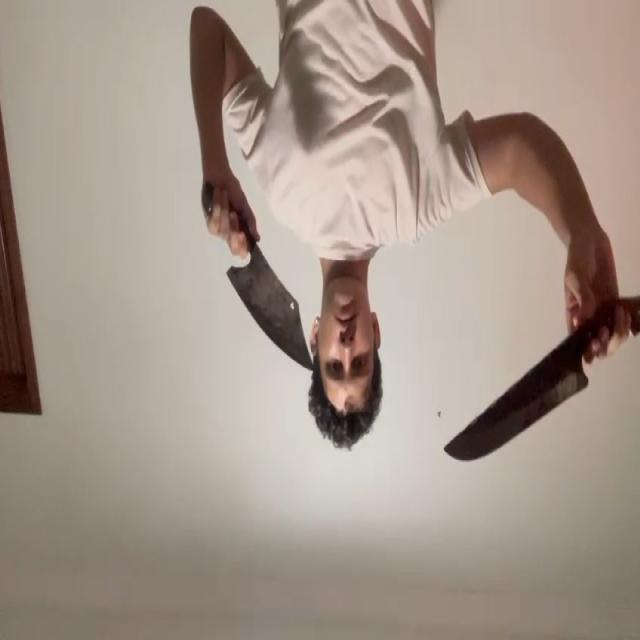knife: (442, 351, 587, 462), (228, 266, 314, 372)
